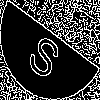S: (25, 25, 68, 82)
